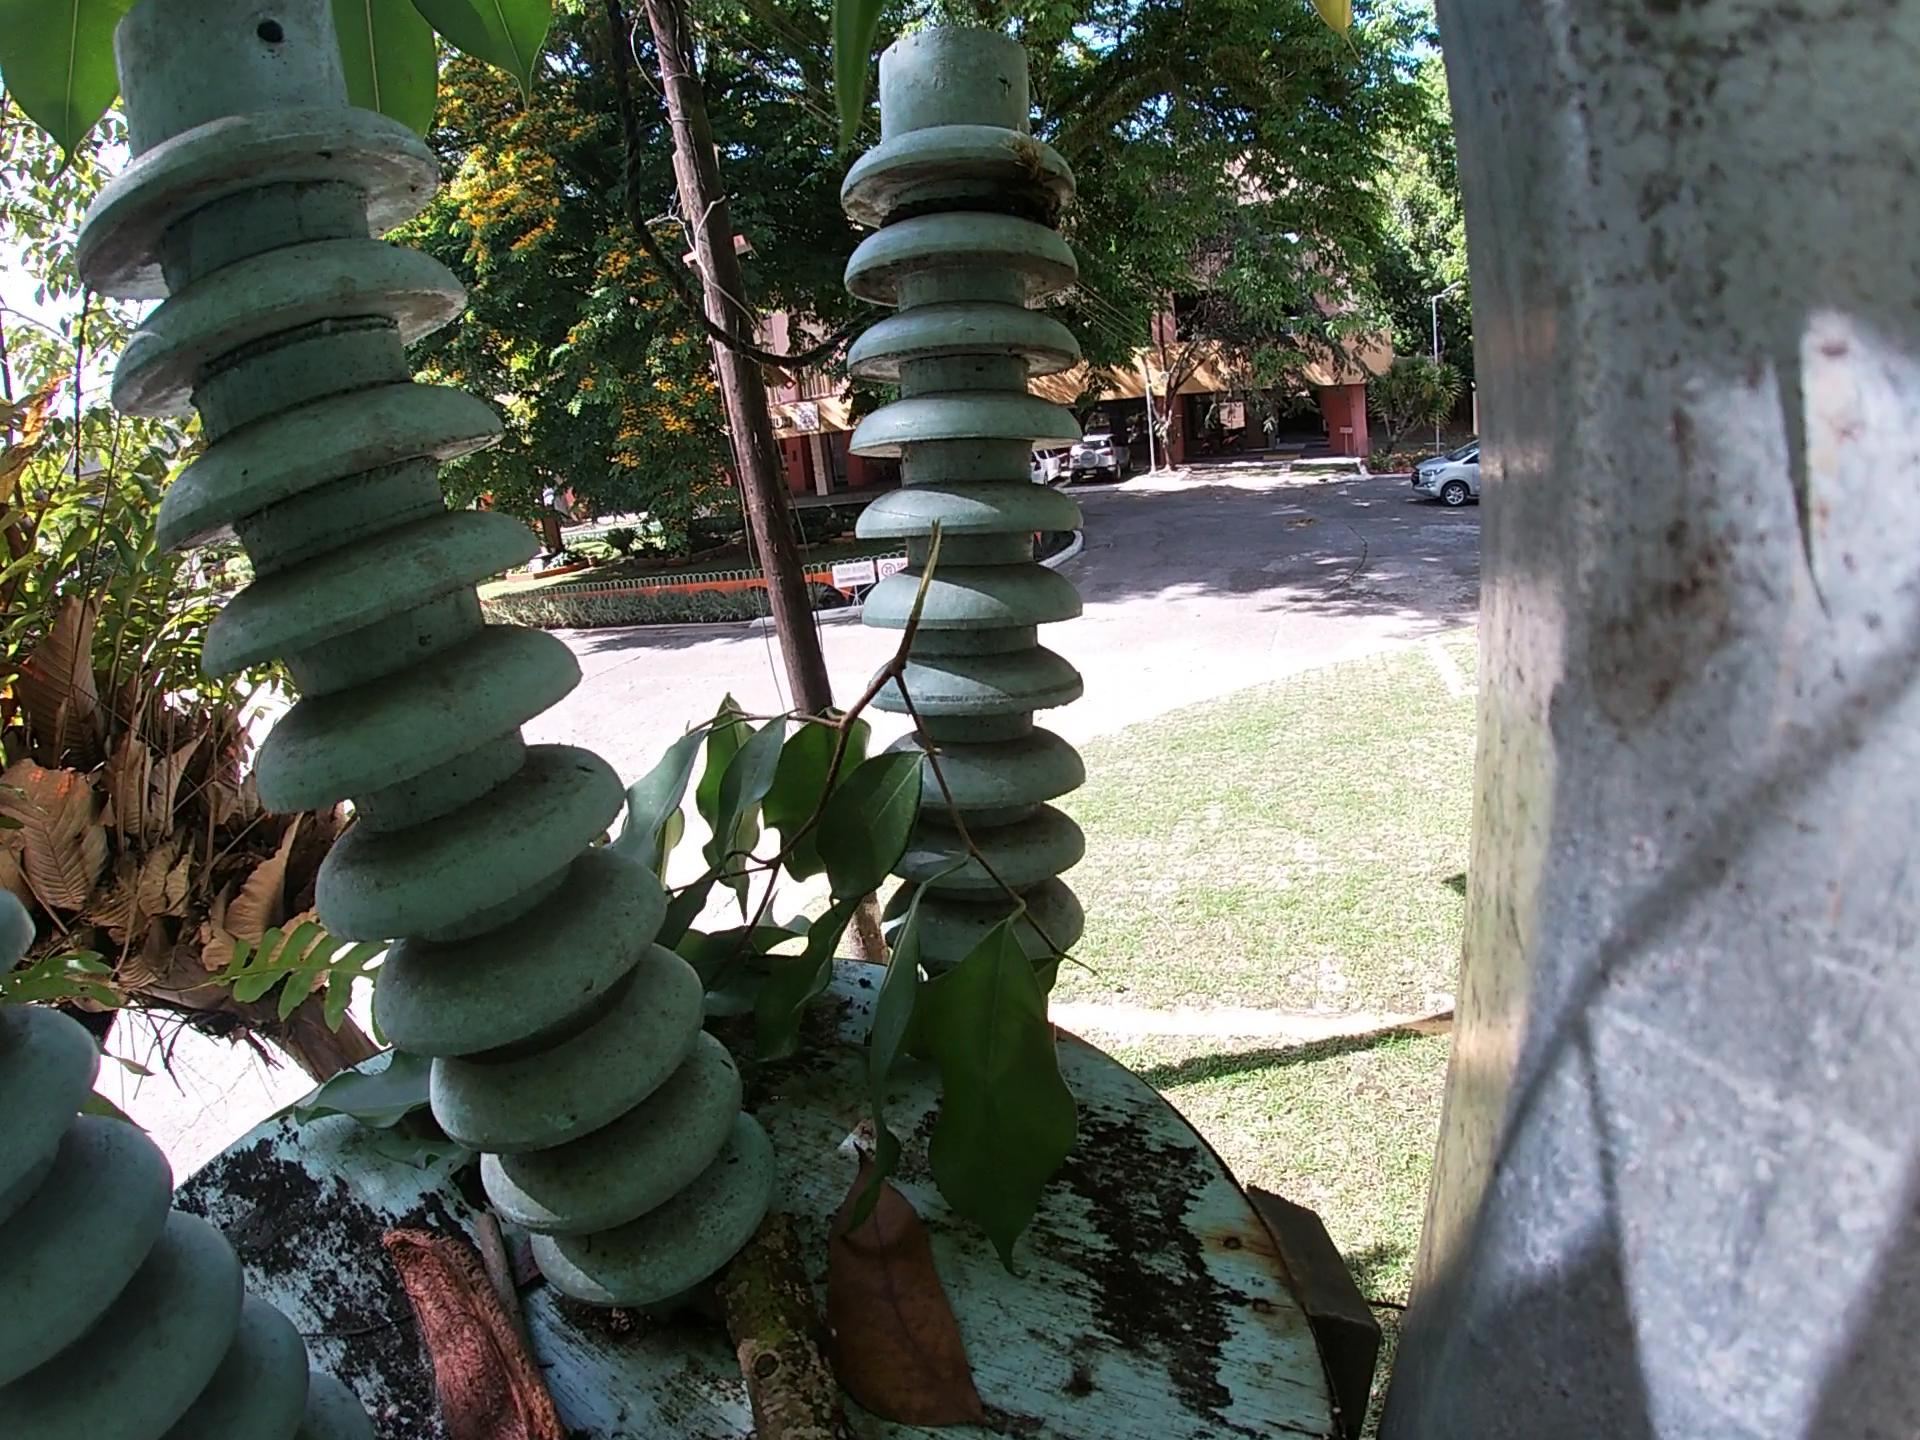branch with leaves: (561, 496, 1101, 1289)
leaf: (816, 1145, 1027, 1434), (268, 1050, 451, 1150)
mahogany fruit: (379, 1231, 558, 1429)
tree branch: (695, 1262, 822, 1437), (466, 1206, 531, 1327)
